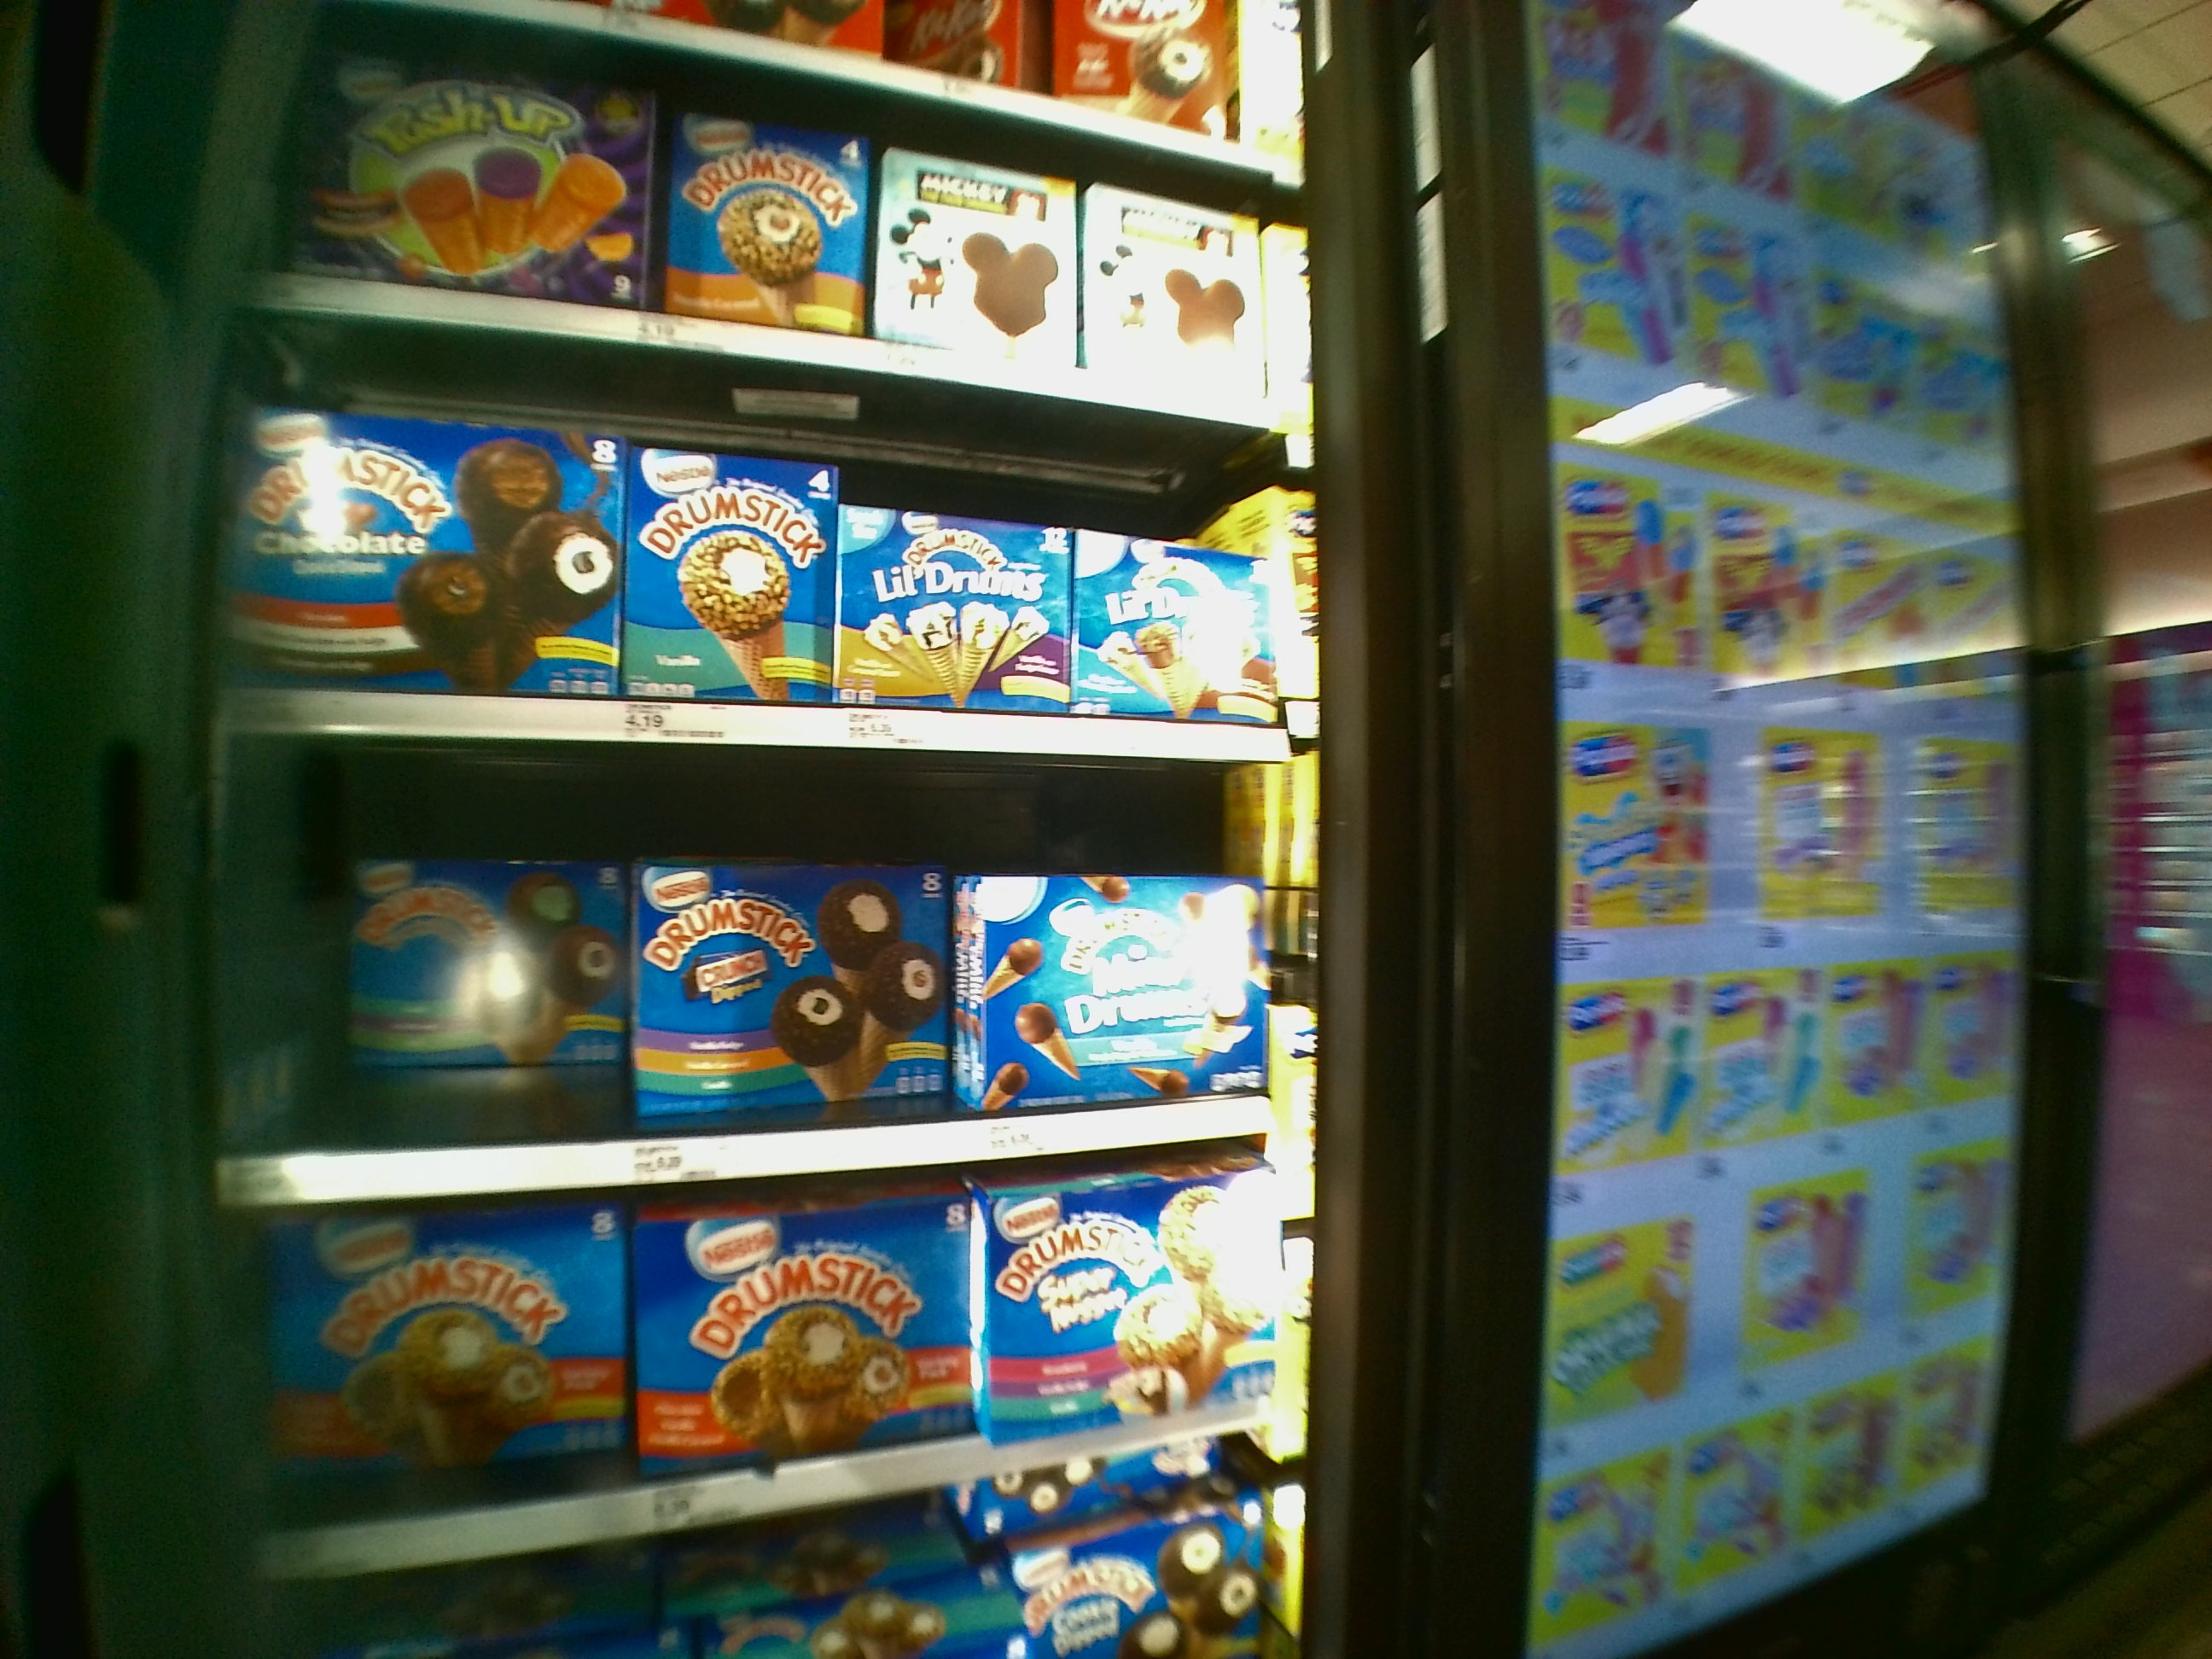shelf: (218, 755, 1315, 1183), (232, 378, 1320, 765), (235, 1166, 1306, 1525)
